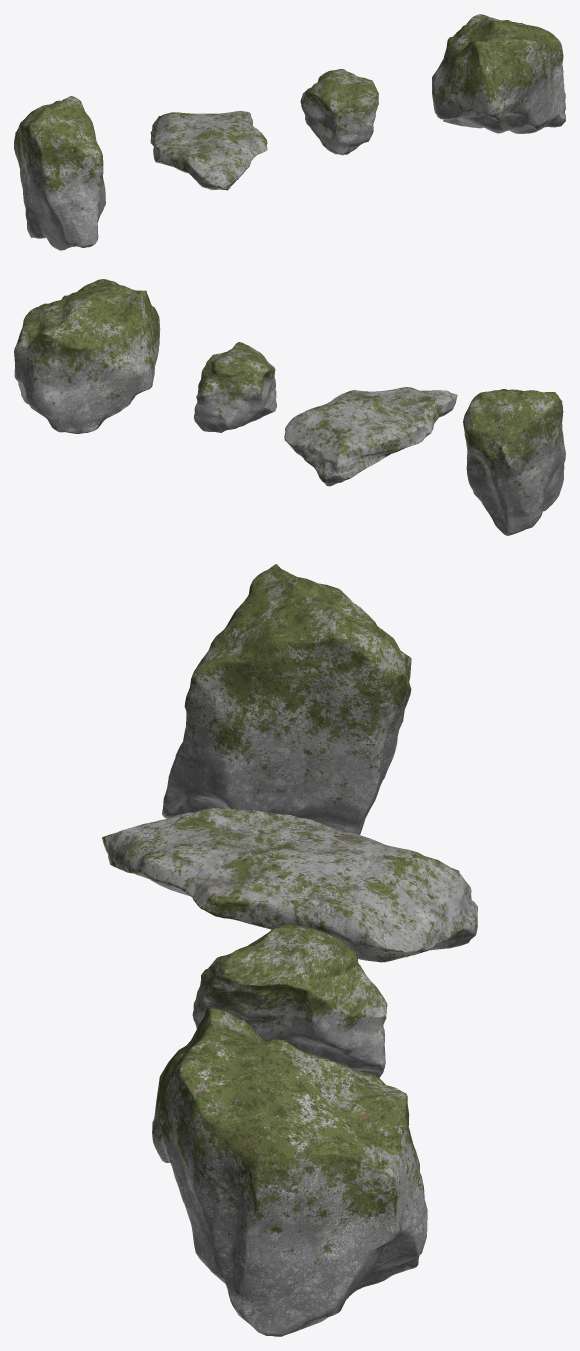
Rendered from quarry_rocks-transformed.glb.
The picture shows the model from 3 angles, top to bottom: view 1: azimuth 30°, elevation 25°; view 2: azimuth 150°, elevation 25°; view 3: azimuth 270°, elevation 25°; orthographic projection. The views are drawn at different scales.
Parts seen in each view (by area): view 1: QuarryRock04_QuarryRock04Shader_0, QuarryRock03_QuarryRock03Shader_0, QuarryRock02_QuarryRock02Shader_0, QuarryRock01_QuarryRock01Shader_0; view 2: QuarryRock04_QuarryRock04Shader_0, QuarryRock03_QuarryRock03Shader_0, QuarryRock02_QuarryRock02Shader_0, QuarryRock01_QuarryRock01Shader_0; view 3: QuarryRock04_QuarryRock04Shader_0, QuarryRock03_QuarryRock03Shader_0, QuarryRock02_QuarryRock02Shader_0, QuarryRock01_QuarryRock01Shader_0.
Part boxes in pixels (x1,y1,x2,y2): QuarryRock04_QuarryRock04Shader_0: (432, 14, 565, 133); QuarryRock03_QuarryRock03Shader_0: (14, 96, 105, 250); QuarryRock02_QuarryRock02Shader_0: (150, 111, 267, 190); QuarryRock01_QuarryRock01Shader_0: (300, 69, 378, 155); QuarryRock04_QuarryRock04Shader_0: (14, 279, 160, 433); QuarryRock03_QuarryRock03Shader_0: (463, 389, 565, 535); QuarryRock02_QuarryRock02Shader_0: (284, 387, 457, 486); QuarryRock01_QuarryRock01Shader_0: (193, 342, 276, 432); QuarryRock04_QuarryRock04Shader_0: (152, 1007, 427, 1336); QuarryRock03_QuarryRock03Shader_0: (162, 564, 411, 834); QuarryRock02_QuarryRock02Shader_0: (102, 808, 477, 962); QuarryRock01_QuarryRock01Shader_0: (192, 924, 387, 1077).
Size of the model in its own units: 20.78 by 5.23 by 6.38.
4 materials, 4 textured.
